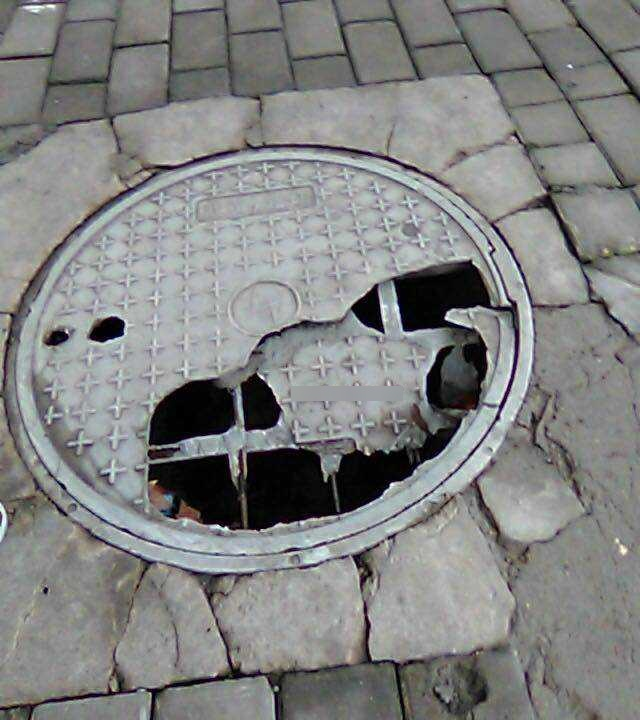broke: (5, 146, 535, 574)
